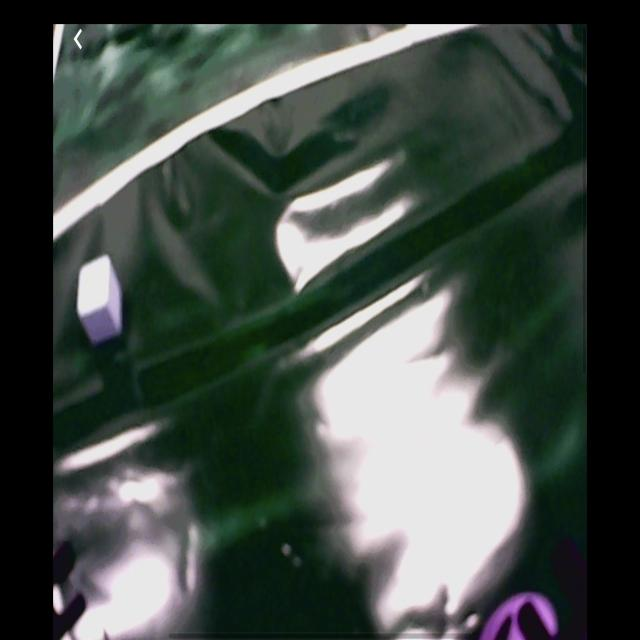ball: (477, 592, 564, 640)
